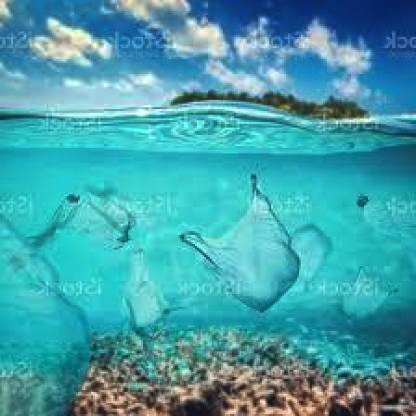pbag: (178, 174, 301, 314)
